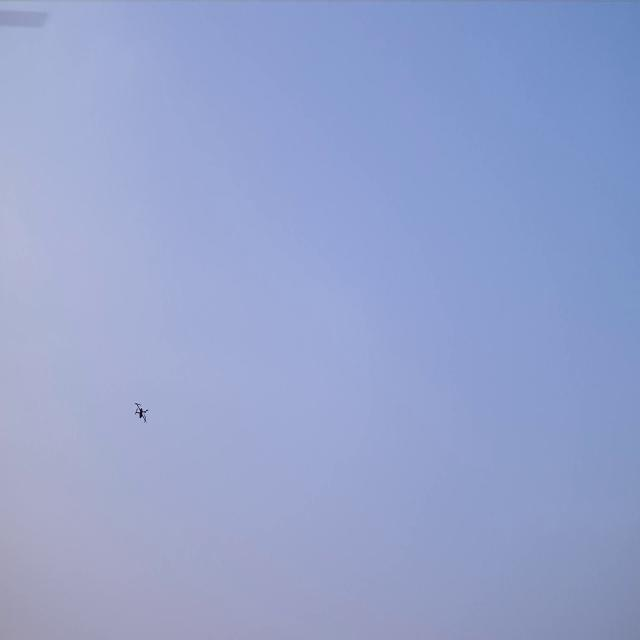UAV: (135, 403, 147, 422)
